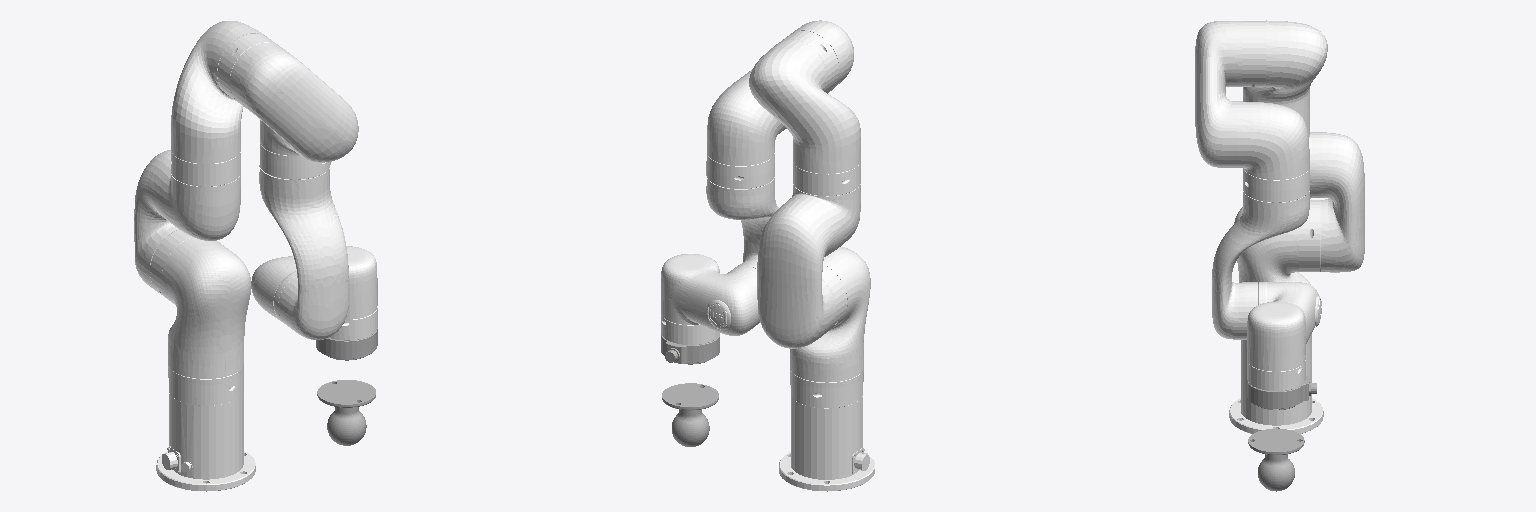
robot.urdf — UF_ROBOT:
<?xml version="1.0" ?>
<!-- =================================================================================== -->
<!-- |    This document was autogenerated by xacro from xarm_device.urdf.xacro         | -->
<!-- |    EDITING THIS FILE BY HAND IS NOT RECOMMENDED                                 | -->
<!-- =================================================================================== -->
<robot name="UF_ROBOT">
  <!-- Insert at the beginning of xarm_device_macro.xacro -->
  <material name="Black">
    <color rgba="0.0 0.0 0.0 1.0"/>
  </material>
  <material name="Red">
    <color rgba="0.8 0.0 0.0 1.0"/>
  </material>
  <material name="White">
    <color rgba="1.0 1.0 1.0 1.0"/>
  </material>
  <material name="Silver">
    <color rgba="0.753 0.753 0.753 1.0"/>
  </material>
  <link name="world"/>
  <joint name="world_joint" type="fixed">
    <parent link="world"/>
    <child link="link_base"/>
    <origin rpy="0 0 0" xyz="0 0 0"/>
  </joint>
  <ros2_control name="uf_robot_hardware/UFRobotSystemHardware" type="system">
    <hardware>
      <plugin>uf_robot_hardware/UFRobotSystemHardware</plugin>
      <param name="hw_ns">xarm</param>
      <param name="velocity_control">False</param>
      <param name="prefix">P</param>
      <param name="robot_ip">R</param>
      <param name="report_type">normal</param>
      <param name="dof">7</param>
      <param name="baud_checkset">True</param>
      <param name="default_gripper_baud">2000000</param>
      <param name="robot_type">xarm</param>
      <param name="add_gripper">False</param>
      <param name="add_bio_gripper">False</param>
    </hardware>
    <joint name="joint1">
      <command_interface name="position">
        <param name="min">-6.283185307179586</param>
        <param name="max">6.283185307179586</param>
      </command_interface>
      <command_interface name="velocity">
        <param name="min">-3.14</param>
        <param name="max">3.14</param>
      </command_interface>
      <state_interface name="position"/>
      <state_interface name="velocity"/>
      <!-- <state_interface name="effort"/> -->
    </joint>
    <joint name="joint2">
      <command_interface name="position">
        <param name="min">-2.059</param>
        <param name="max">2.0944</param>
      </command_interface>
      <command_interface name="velocity">
        <param name="min">-3.14</param>
        <param name="max">3.14</param>
      </command_interface>
      <state_interface name="position"/>
      <state_interface name="velocity"/>
      <!-- <state_interface name="effort"/> -->
    </joint>
    <joint name="joint3">
      <command_interface name="position">
        <param name="min">-6.283185307179586</param>
        <param name="max">6.283185307179586</param>
      </command_interface>
      <command_interface name="velocity">
        <param name="min">-3.14</param>
        <param name="max">3.14</param>
      </command_interface>
      <state_interface name="position"/>
      <state_interface name="velocity"/>
      <!-- <state_interface name="effort"/> -->
    </joint>
    <joint name="joint4">
      <command_interface name="position">
        <param name="min">-0.19198</param>
        <param name="max">3.927</param>
      </command_interface>
      <command_interface name="velocity">
        <param name="min">-3.14</param>
        <param name="max">3.14</param>
      </command_interface>
      <state_interface name="position"/>
      <state_interface name="velocity"/>
      <!-- <state_interface name="effort"/> -->
    </joint>
    <joint name="joint5">
      <command_interface name="position">
        <param name="min">-6.283185307179586</param>
        <param name="max">6.283185307179586</param>
      </command_interface>
      <command_interface name="velocity">
        <param name="min">-3.14</param>
        <param name="max">3.14</param>
      </command_interface>
      <state_interface name="position"/>
      <state_interface name="velocity"/>
      <!-- <state_interface name="effort"/> -->
    </joint>
    <joint name="joint6">
      <command_interface name="position">
        <param name="min">-1.69297</param>
        <param name="max">3.141592653589793</param>
      </command_interface>
      <command_interface name="velocity">
        <param name="min">-3.14</param>
        <param name="max">3.14</param>
      </command_interface>
      <state_interface name="position"/>
      <state_interface name="velocity"/>
      <!-- <state_interface name="effort"/> -->
    </joint>
    <joint name="joint7">
      <command_interface name="position">
        <param name="min">-6.283185307179586</param>
        <param name="max">6.283185307179586</param>
      </command_interface>
      <command_interface name="velocity">
        <param name="min">-3.14</param>
        <param name="max">3.14</param>
      </command_interface>
      <state_interface name="position"/>
      <state_interface name="velocity"/>
      <!-- <state_interface name="effort"/> -->
    </joint>
  </ros2_control>
  <link name="link_base">
    <inertial>
      <origin rpy="0 0 0" xyz="-0.00027569 -0.00002500 0.07259089"/>
      <mass value="1.875"/>
      <inertia ixx="0.00484966" ixy="0.00000285" ixz="0.00002471" iyy="0.00487983" iyz="0.00000243" izz="0.00231210"/>
    </inertial>
    <visual>
      <geometry>
        <mesh filename="xarm7_1305/visual/link_base.dae"/>
      </geometry>
      <origin rpy="0 0 0" xyz="0 0 0"/>
      <material name="White"/>
    </visual>
    <collision>
      <geometry>
        <mesh filename="xarm7_1305/collision/link_base.stl"/>
      </geometry>
      <origin rpy="0 0 0" xyz="0 0 0"/>
    </collision>
  </link>
  <link name="link1">
    <inertial>
      <origin rpy="0 0 0" xyz="-0.00000001 0.00160599 -0.03216111"/>
      <mass value="2.168"/>
      <inertia ixx="0.00626097" ixy="0.0" ixz="-0.00000112" iyy="0.00573739" iyz="0.00031090" izz="0.00308031"/>
    </inertial>
    <visual>
      <geometry>
        <mesh filename="xarm7_1305/visual/link1.dae"/>
      </geometry>
      <origin rpy="0 0 0" xyz="0 0 0"/>
      <material name="White"/>
    </visual>
    <collision>
      <geometry>
        <mesh filename="xarm7_1305/collision/link1.stl"/>
      </geometry>
      <origin rpy="0 0 0" xyz="0 0 0"/>
    </collision>
  </link>
  <joint name="joint1" type="revolute">
    <origin rpy="0 0 0" xyz="0 0 0.267"/>
    <parent link="link_base"/>
    <child link="link1"/>
    <axis xyz="0 0 1"/>
    <limit effort="50" lower="-6.283185307179586" upper="6.283185307179586" velocity="3.14"/>
    <dynamics damping="10" friction="1"/>
  </joint>
  <link name="link2">
    <inertial>
      <origin rpy="0 0 0" xyz="0.00000447 -0.08442622 0.04721398"/>
      <mass value="2.73"/>
      <inertia ixx="0.01465324" ixy="-0.00000021" ixz="0.00000103" iyy="0.00694666" iyz="0.00443101" izz="0.01056342"/>
    </inertial>
    <visual>
      <geometry>
        <mesh filename="xarm7_1305/visual/link2.dae"/>
      </geometry>
      <origin rpy="0 0 0" xyz="0 0 0"/>
      <material name="White"/>
    </visual>
    <collision>
      <geometry>
        <mesh filename="xarm7_1305/collision/link2.stl"/>
      </geometry>
      <origin rpy="0 0 0" xyz="0 0 0"/>
    </collision>
  </link>
  <joint name="joint2" type="revolute">
    <origin rpy="-1.5708 0 0" xyz="0 0 0"/>
    <parent link="link1"/>
    <child link="link2"/>
    <axis xyz="0 0 1"/>
    <limit effort="50" lower="-2.059" upper="2.0944" velocity="3.14"/>
    <dynamics damping="10" friction="1"/>
  </joint>
  <link name="link3">
    <inertial>
      <origin rpy="0 0 0" xyz="0.02906440 0.00556162 -0.03120185"/>
      <mass value="1.923"/>
      <inertia ixx="0.00459931" ixy="-0.00001085" ixz="0.00161543" iyy="0.00532435" iyz="0.00013063" izz="0.00352704"/>
    </inertial>
    <visual>
      <geometry>
        <mesh filename="xarm7_1305/visual/link3.dae"/>
      </geometry>
      <origin rpy="0 0 0" xyz="0 0 0"/>
      <material name="White"/>
    </visual>
    <collision>
      <geometry>
        <mesh filename="xarm7_1305/collision/link3.stl"/>
      </geometry>
      <origin rpy="0 0 0" xyz="0 0 0"/>
    </collision>
  </link>
  <joint name="joint3" type="revolute">
    <origin rpy="1.5708 0 0" xyz="0 -0.293 0"/>
    <parent link="link2"/>
    <child link="link3"/>
    <axis xyz="0 0 1"/>
    <limit effort="30" lower="-6.283185307179586" upper="6.283185307179586" velocity="3.14"/>
    <dynamics damping="5" friction="1"/>
  </joint>
  <link name="link4">
    <inertial>
      <origin rpy="0 0 0" xyz="0.05708279 -0.07189834 0.04205398"/>
      <mass value="2.577"/>
      <inertia ixx="0.01083792" ixy="-0.00335663" ixz="-0.00183695" iyy="0.00826380" iyz="0.00318387" izz="0.01036678"/>
    </inertial>
    <visual>
      <geometry>
        <mesh filename="xarm7_1305/visual/link4.dae"/>
      </geometry>
      <origin rpy="0 0 0" xyz="0 0 0"/>
      <material name="White"/>
    </visual>
    <collision>
      <geometry>
        <mesh filename="xarm7_1305/collision/link4.stl"/>
      </geometry>
      <origin rpy="0 0 0" xyz="0 0 0"/>
    </collision>
  </link>
  <joint name="joint4" type="revolute">
    <origin rpy="1.5708 0 0" xyz="0.0525 0 0"/>
    <parent link="link3"/>
    <child link="link4"/>
    <axis xyz="0 0 1"/>
    <limit effort="30" lower="-0.19198" upper="3.927" velocity="3.14"/>
    <dynamics damping="5" friction="1"/>
  </joint>
  <link name="link5">
    <inertial>
      <origin rpy="0 0 0" xyz="0.00016816 0.03090249 -0.08031427"/>
      <mass value="1.413"/>
      <inertia ixx="0.00844774" ixy="0.0" ixz="0.00000002" iyy="0.00761972" iyz="0.00195119" izz="0.00199753"/>
    </inertial>
    <visual>
      <geometry>
        <mesh filename="xarm7_1305/visual/link5.dae"/>
      </geometry>
      <origin rpy="0 0 0" xyz="0 0 0"/>
      <material name="White"/>
    </visual>
    <collision>
      <geometry>
        <mesh filename="xarm7_1305/collision/link5.stl"/>
      </geometry>
      <origin rpy="0 0 0" xyz="0 0 0"/>
    </collision>
  </link>
  <joint name="joint5" type="revolute">
    <origin rpy="1.5708 0 0" xyz="0.0775 -0.3425 0"/>
    <parent link="link4"/>
    <child link="link5"/>
    <axis xyz="0 0 1"/>
    <limit effort="30" lower="-6.283185307179586" upper="6.283185307179586" velocity="3.14"/>
    <dynamics damping="5" friction="1"/>
  </joint>
  <link name="link6">
    <inertial>
      <origin rpy="0 0 0" xyz="0.04616698 0.00947581 0.00846414"/>
      <mass value="1.388"/>
      <inertia ixx="0.00159996" ixy="0.00038970" ixz="-0.00046448" iyy="0.00295668" iyz="-0.00011078" izz="0.00327270"/>
    </inertial>
    <visual>
      <geometry>
        <mesh filename="xarm7_1305/visual/link6.dae"/>
      </geometry>
      <origin rpy="0 0 0" xyz="0 0 0"/>
      <material name="White"/>
    </visual>
    <collision>
      <geometry>
        <mesh filename="xarm7_1305/collision/link6.stl"/>
      </geometry>
      <origin rpy="0 0 0" xyz="0 0 0"/>
    </collision>
  </link>
  <joint name="joint6" type="revolute">
    <origin rpy="1.5708 0 0" xyz="0 0 0"/>
    <parent link="link5"/>
    <child link="link6"/>
    <axis xyz="0 0 1"/>
    <limit effort="20" lower="-1.69297" upper="3.141592653589793" velocity="3.14"/>
    <dynamics damping="2" friction="1"/>
  </joint>
  <link name="link7">
    <inertial>
      <origin rpy="0 0 0" xyz="0.00006906 -0.00179820 -0.01774746"/>
      <mass value="0.223"/>
      <inertia ixx="0.00011692" ixy="0.0" ixz="0.0" iyy="0.00009809" iyz="0.00000049" izz="0.00018277"/>
    </inertial>
    <visual>
      <geometry>
        <mesh filename="xarm7_1305/visual/link7.dae"/>
      </geometry>
      <origin rpy="0 0 0" xyz="0 0 0"/>
      <material name="Silver"/>
    </visual>
    <collision>
      <geometry>
        <mesh filename="xarm7_1305/collision/link7.stl"/>
      </geometry>
      <origin rpy="0 0 0" xyz="0 0 0"/>
    </collision>
  </link>
  <joint name="joint7" type="revolute">
    <origin rpy="-1.5708 0 0" xyz="0.076 0.097 0"/>
    <parent link="link6"/>
    <child link="link7"/>
    <axis xyz="0 0 1"/>
    <limit effort="20" lower="-6.283185307179586" upper="6.283185307179586" velocity="3.14"/>
    <dynamics damping="2" friction="1"/>
  </joint>

  <link name="link_ft">
    <inertial>
      <origin rpy="0 0 0" xyz="0.00012209 -0.00016199 0.02553208"/>
      <mass value="0.445"/>
      <inertia ixx="2.839e-04" ixy="0.0" ixz="0.0" iyy="2.839e-04" iyz="0.0" izz="3.139e-04"/>
    </inertial>
    <visual>
      <geometry>
        <mesh filename="xarm7_1305/visual/link_ft.dae" scale="0.001 0.001 0.001"/>
      </geometry>
      <origin rpy="0 0 0" xyz="0 0 0"/>
      <material name="White"/>
    </visual>
    <collision>
      <geometry>
        <mesh filename="xarm7_1305/collision/link_ft.stl" scale="0.001 0.001 0.001"/>
      </geometry>
      <origin rpy="0 0 0" xyz="0 0 0"/>
    </collision>
  </link>
  <joint name="joint_ft" type="fixed">
    <origin rpy="0 0 0" xyz="0 0 0"/>
    <parent link="link7"/>
    <child link="link_ft"/>
  </joint>
  <link name="link_EE">
    <inertial>
      <origin rpy="0 0 0" xyz="0.0 0.0 0.03279"/>
      <mass value="0.05"/>
      <inertia ixx="6.524e-5" ixy="0.0" ixz="0.0" iyy="3.365e-5" iyz="0.0" izz="6.563e-5"/>
    </inertial>
    <visual>
      <geometry>
        <mesh filename="end_tool/visual/end_effector.dae" scale="0.001 0.001 0.001"/>
      </geometry>
      <origin rpy="1.5708 0 0" xyz="-0.0375 0.0375 0"/>
      <material name="Silver"/>
    </visual>
    <collision>
      <geometry>
        <mesh filename="end_tool/collision/end_effector.stl" scale="0.001 0.001 0.001"/>
      </geometry>
      <origin rpy="1.5708 0 0" xyz="-0.0375 0.0375 0"/>
    </collision>
  </link>

  <joint name="joint_EE" type="fixed">
    <origin rpy="0 0 0" xyz="0 0 0.05860"/>
    <parent link="link_ft"/>
    <child link="link_EE"/>
  </joint>
  
  <link name="link_eef"/>

  <joint name="joint_eef" type="fixed">
    <origin rpy="0 0 0" xyz="0 0 0.0475"/>
    <parent link="link_EE"/>
    <child link="link_eef"/>
  </joint>
</robot>

--- What the picture shows (computed from the rendered views, not written in the file) ---
Views: 3 orthographic renders of the robot side by side, from view 1: azimuth 30°, elevation 25°; view 2: azimuth 150°, elevation 25°; view 3: azimuth 270°, elevation 25°.
Model UF_ROBOT with 12 links and 11 joints (7 revolute, 4 fixed), rooted at world, posed every joint at zero.
Links seen in each view (by area): view 1: link4, link1, link5, link_base, link2, link3, link6, link_EE, link7; view 2: link2, link3, link_base, link4, link6, link1, link5, link_EE, link7; view 3: link4, link2, link3, link6, link5, link1, link_base, link_EE, link7.
Boxes of the visible links, x1,y1,x2,y2 form: link4: (230,43,358,179); link1: (150,230,250,378); link5: (259,165,348,339); link_base: (156,366,255,491); link2: (134,150,240,292); link3: (171,21,277,163); link6: (251,246,377,340); link_EE: (317,380,375,445); link7: (316,328,377,360); link2: (757,162,860,348); link3: (749,31,860,173); link_base: (779,370,874,491); link4: (706,20,853,188); link6: (661,254,759,344); link1: (790,247,870,382); link5: (706,177,778,274); link_EE: (662,383,718,446); link7: (661,335,719,364); link4: (1195,21,1309,202); link2: (1304,114,1364,272); link3: (1242,20,1327,119); link6: (1247,282,1321,390); link5: (1212,191,1309,339); link1: (1234,200,1320,284); link_base: (1229,334,1323,433); link_EE: (1248,429,1304,491); link7: (1247,376,1316,409).
Size in the robot's own frame: 0.3079 by 0.2274 by 0.6151 metres.
Meshes: 10 distinct files referenced, 9 mesh visuals loaded (9 Collada DAE); not drawn: 1 (reference not matched to a file when rendering).
